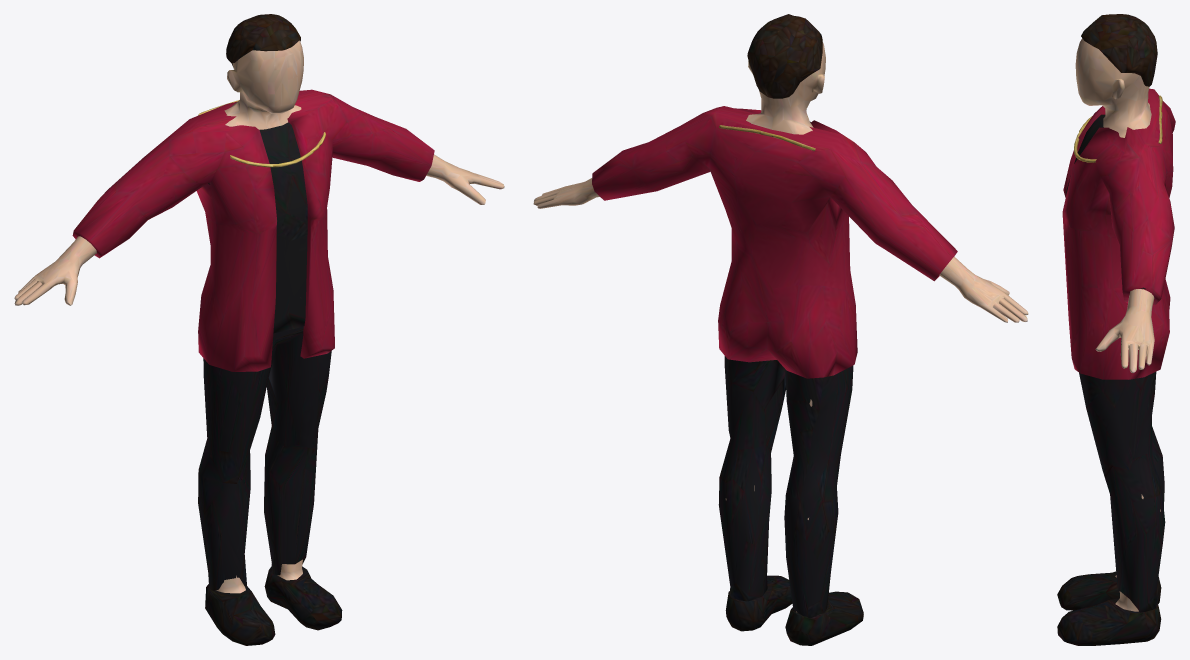
File: npc_x_bandit2.glb
The picture shows the model from 3 angles, left to right: view 1: azimuth 30°, elevation 25°; view 2: azimuth 150°, elevation 25°; view 3: azimuth 270°, elevation 25°; orthographic projection.
Parts seen in each view (by area): view 1: Human; view 2: Human; view 3: Human.
Boxes of the visible parts, x1,y1,x2,y2 form: Human: [14, 14, 504, 645]; Human: [533, 14, 1028, 645]; Human: [1057, 14, 1175, 645].
Size of the model in its own units: 1.58 by 1.86 by 0.3305.
1 material, 1 textured.
